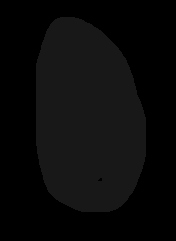fp: (22, 11, 172, 223)
